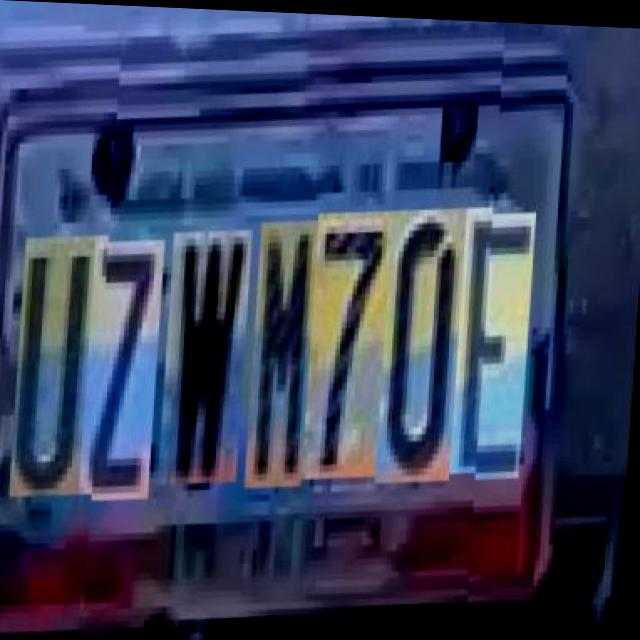0: (382, 209, 471, 490)
7: (308, 212, 397, 487)
e: (456, 208, 540, 482)
m: (251, 222, 322, 493)
u: (17, 241, 99, 509)
w: (165, 229, 256, 490)
z: (86, 238, 170, 506)
